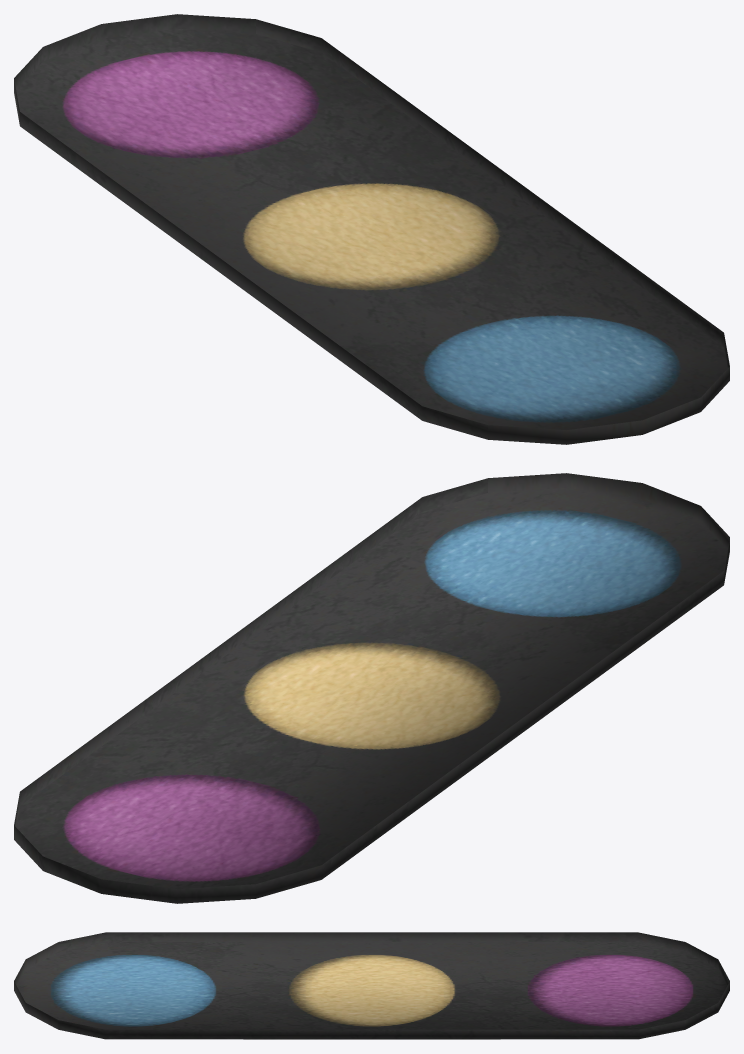
File: nt_2020_wall_design01_LOD2.obj
3 views of the same model, one above another, from view 1: azimuth 30°, elevation 25°; view 2: azimuth 150°, elevation 25°; view 3: azimuth 270°, elevation 25° (orthographic). The views are drawn at different scales.
Visible parts, largest first — view 1: mtl_nt_2020_wall_design01; view 2: mtl_nt_2020_wall_design01; view 3: mtl_nt_2020_wall_design01.
Part boxes in pixels (box(x1,y1,x2,y2)): mtl_nt_2020_wall_design01: box(14, 14, 729, 444); mtl_nt_2020_wall_design01: box(14, 473, 729, 903); mtl_nt_2020_wall_design01: box(14, 932, 729, 1039).
Bounding box in the file's own units: 78 × 8.22 × 242.
